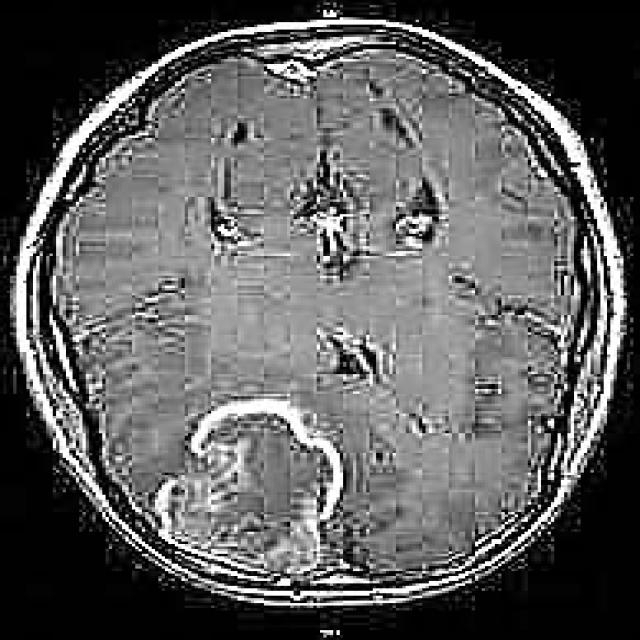Tumor-Cell: (130, 404, 364, 570)
